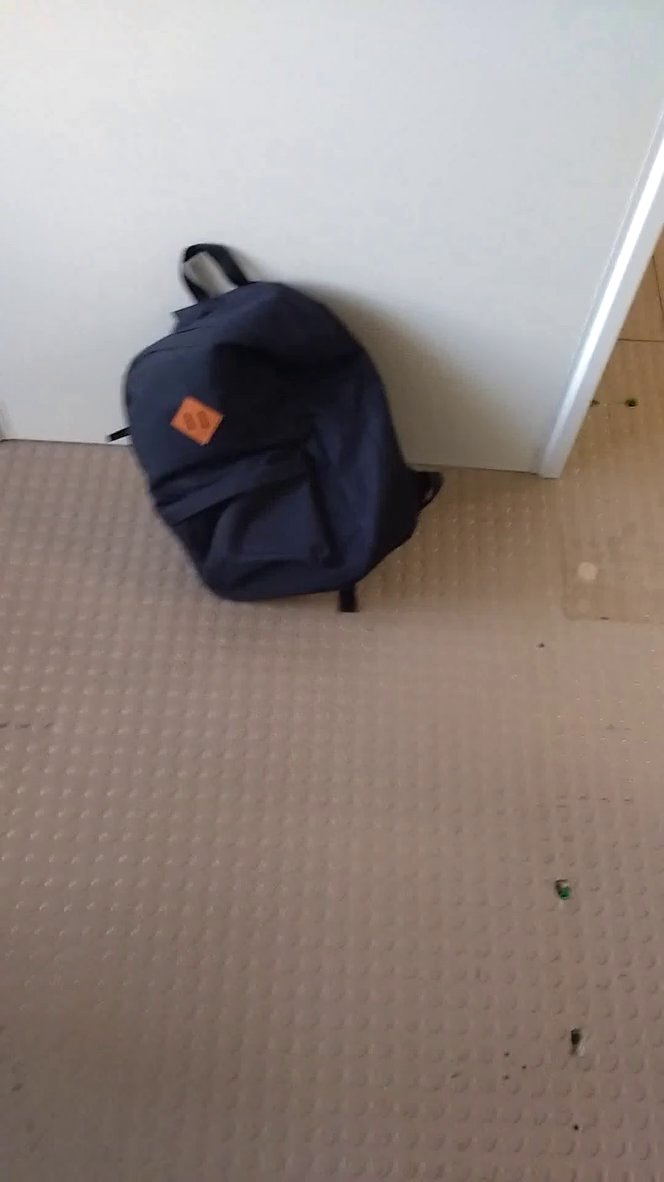bag: (96, 234, 451, 636)
